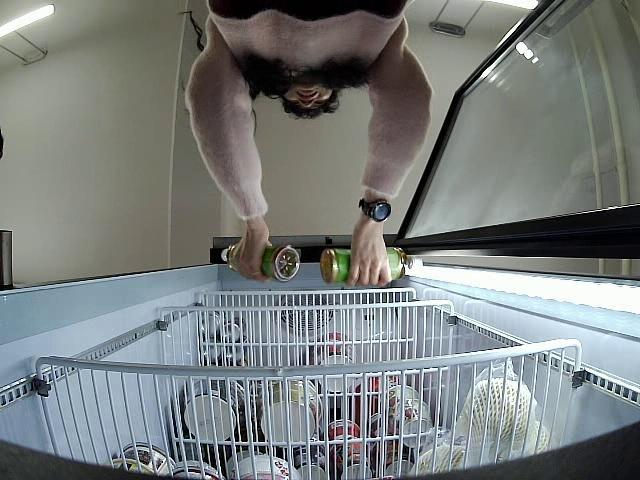19_17cha: (321, 247, 424, 286), (220, 243, 300, 282)
